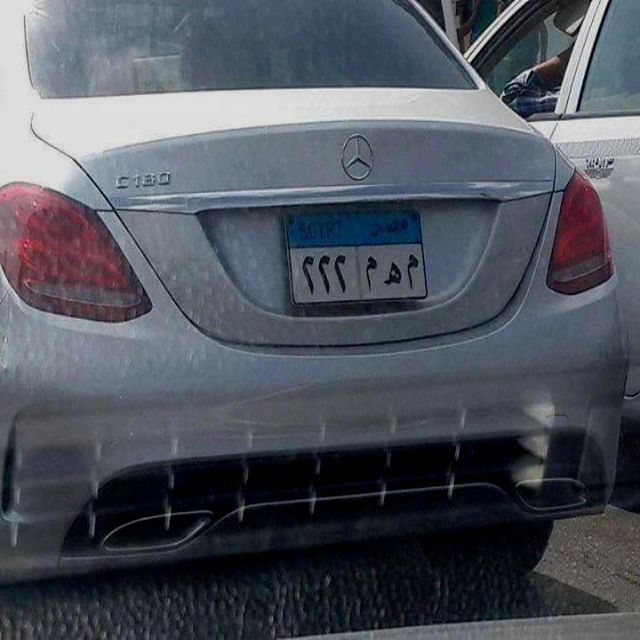License Plate: (282, 207, 430, 311)
